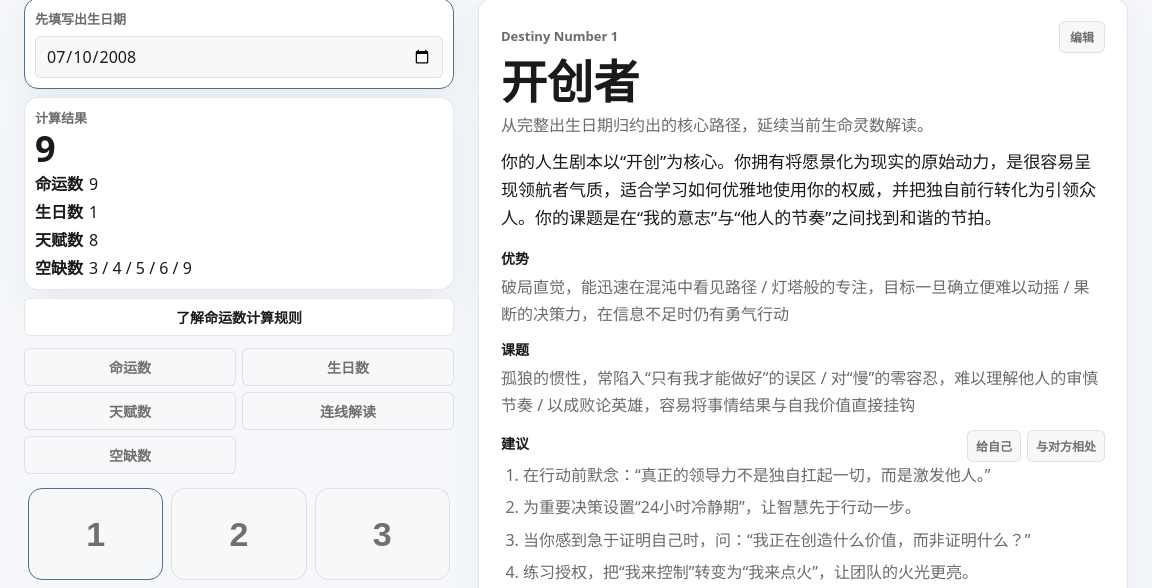
MainPage › 命运数和空缺数在九宫格下方展示额外数字解读
In the date field labelled "先填写出生日期": [239, 57] box [35,36,443,78], type "1999-11-22"
(page scrolled)
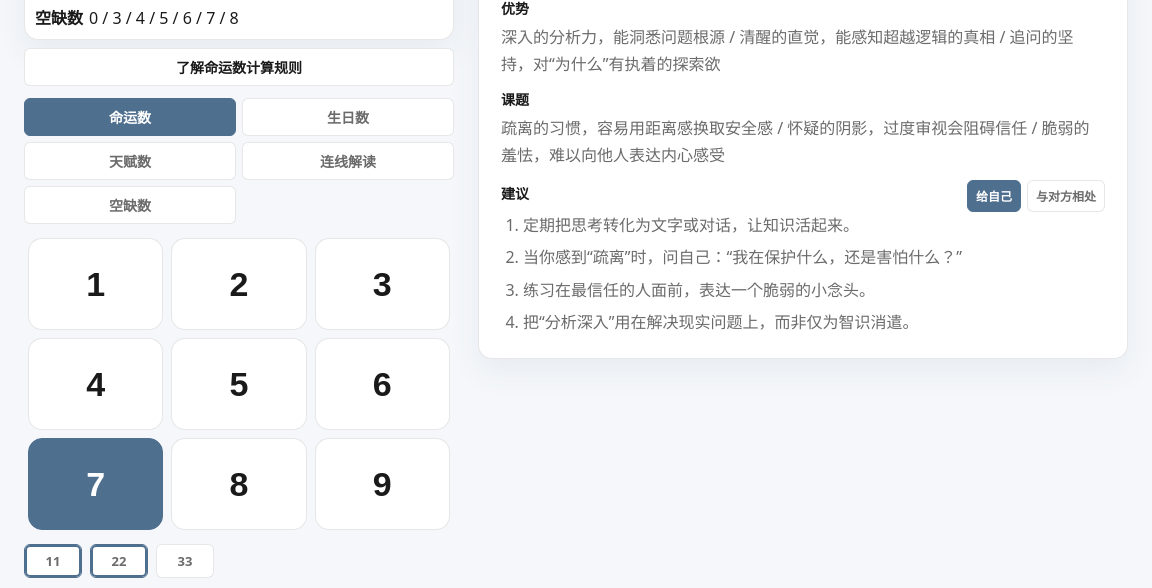
Click the button with class "extra-number-button" showing "11": [53, 561] box [24,544,82,578]
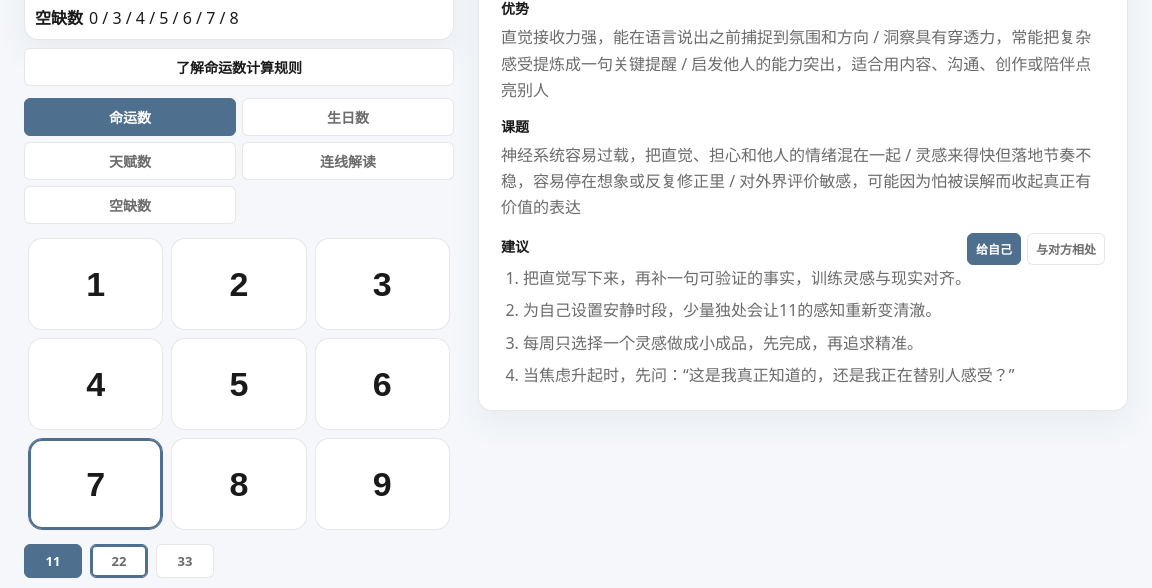
Click the button with class "tab" showing "空缺数": [130, 205] box [24,186,236,224]
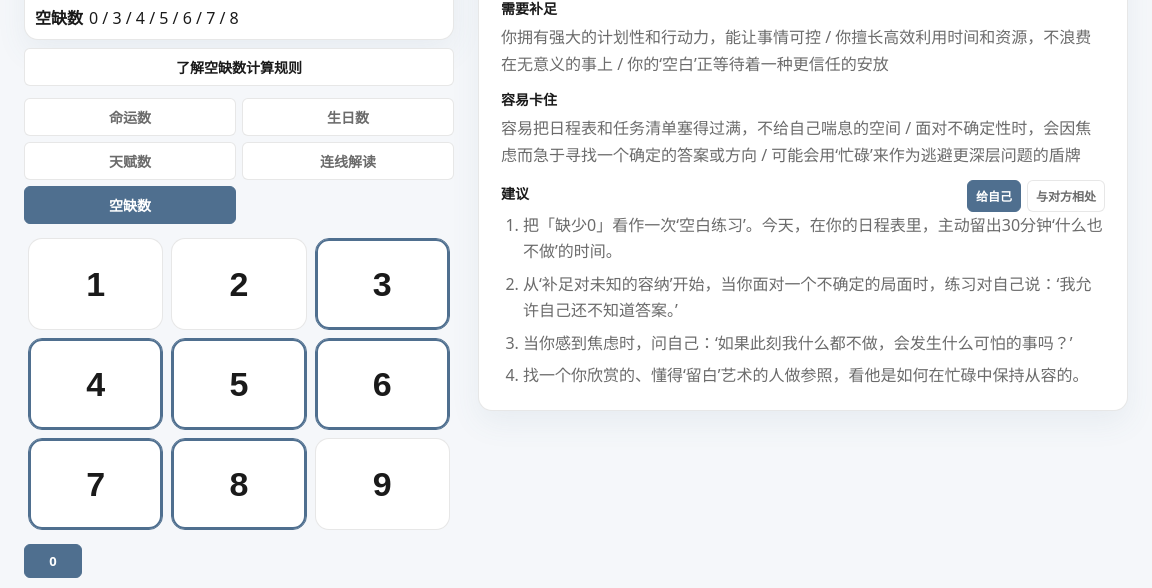
Expected: the elements with class "extra-number-button" read "0", in this order, [24,544,82,578]
